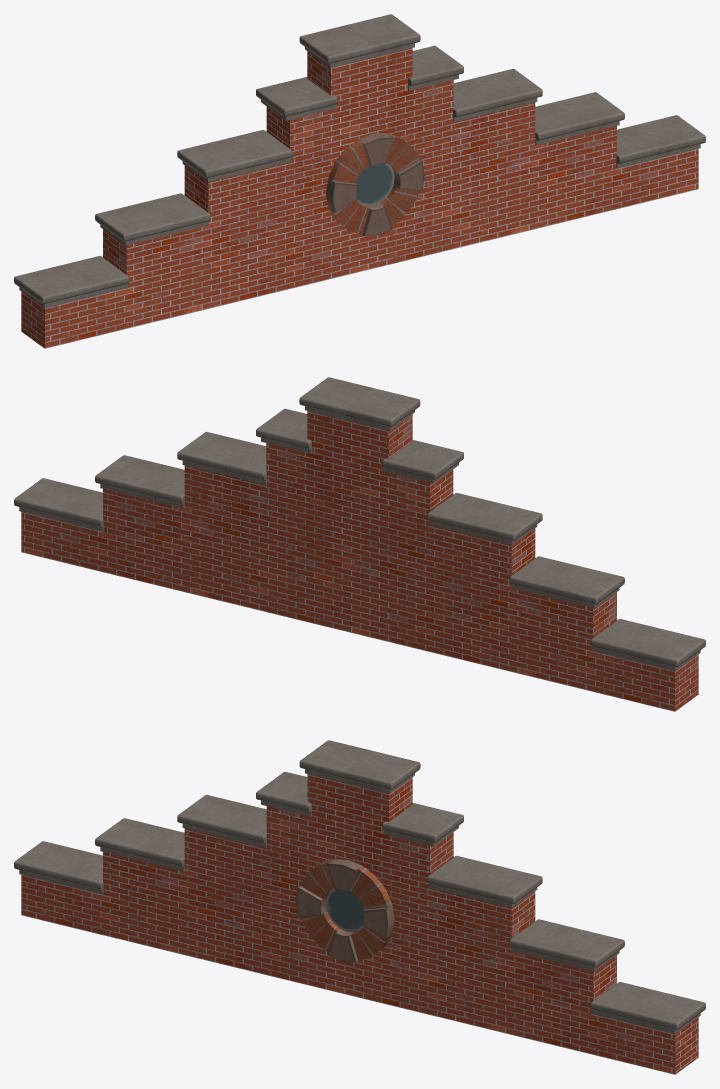
The model's file is House_02_Wall_03.fbx.
3 views of the same model, one above another, from view 1: azimuth 30°, elevation 25°; view 2: azimuth 150°, elevation 25°; view 3: azimuth 330°, elevation 25° (orthographic).
Parts seen in each view (by area): view 1: House_02_Wall_03_LOD0; view 2: House_02_Wall_03_LOD0; view 3: House_02_Wall_03_LOD0.
Boxes of the visible parts, <box> form: House_02_Wall_03_LOD0: <box>14,14,705,348</box>; House_02_Wall_03_LOD0: <box>14,377,705,711</box>; House_02_Wall_03_LOD0: <box>14,740,705,1074</box>.
Size of what is drawn, in the model's own units: 813 by 263 by 70.06.
